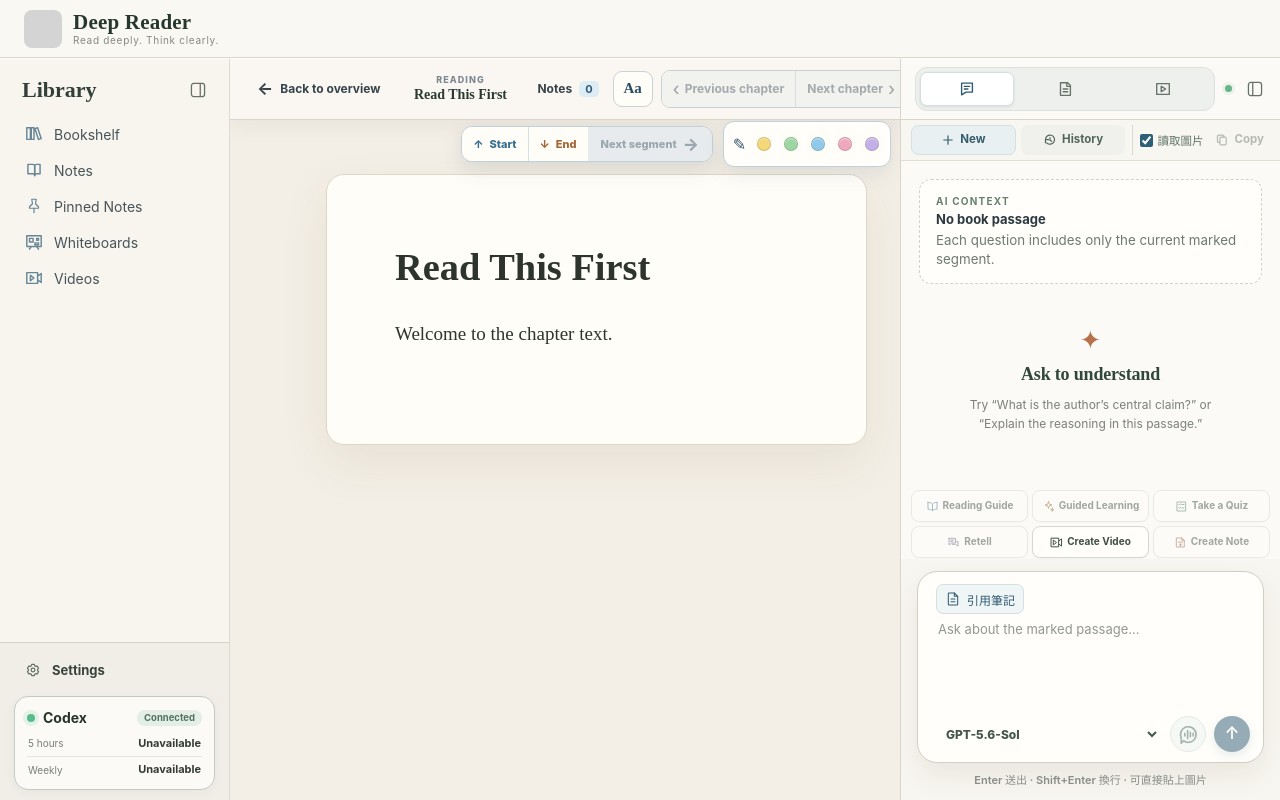
Test: saved video source keeps its snapshot without a chapter-jump button or changes to START/END
The width and height of the screenshot is (1280, 800).
Expected: the text "Welcome to the chapter text." is shown, [395,323,612,344]
Click the button "Videos": (114, 278) [10,260,219,296]
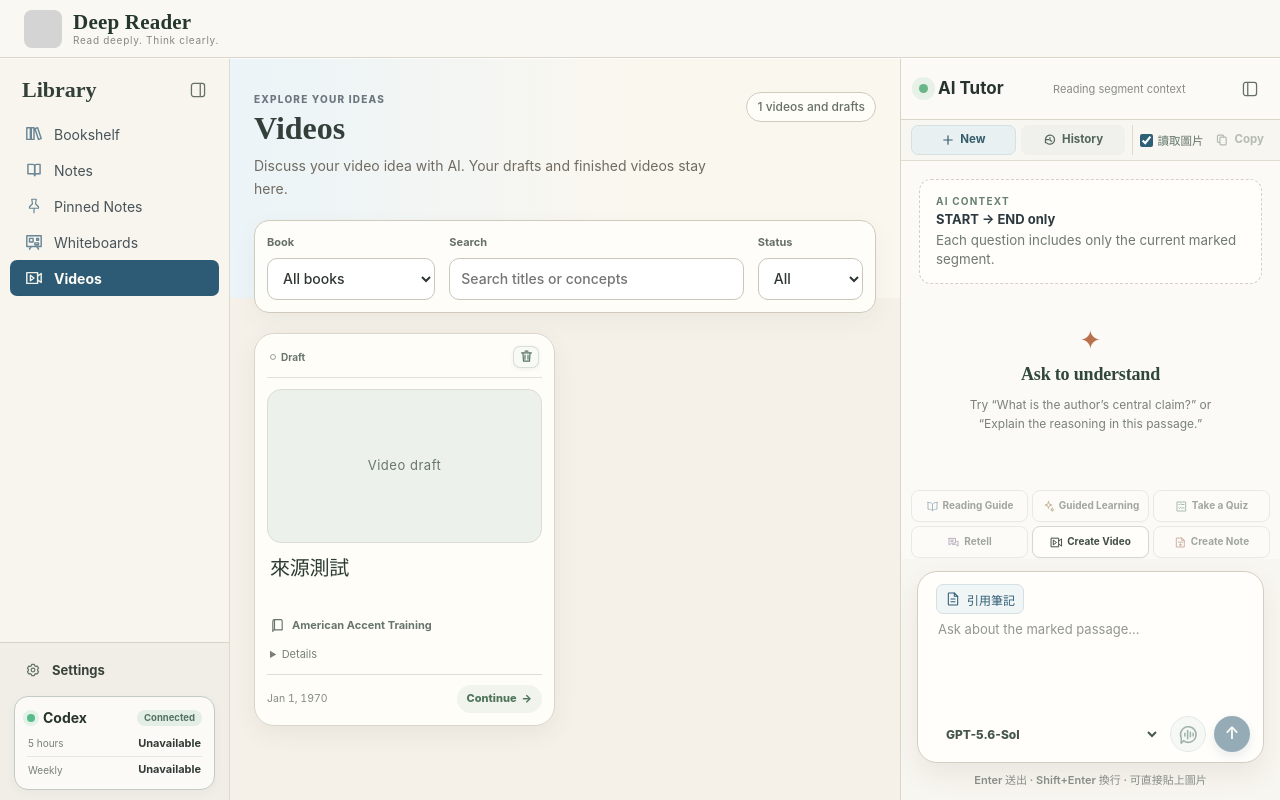
Click the button with aria-label "Continue: 來源測試": (499, 699) [457,685,542,713]
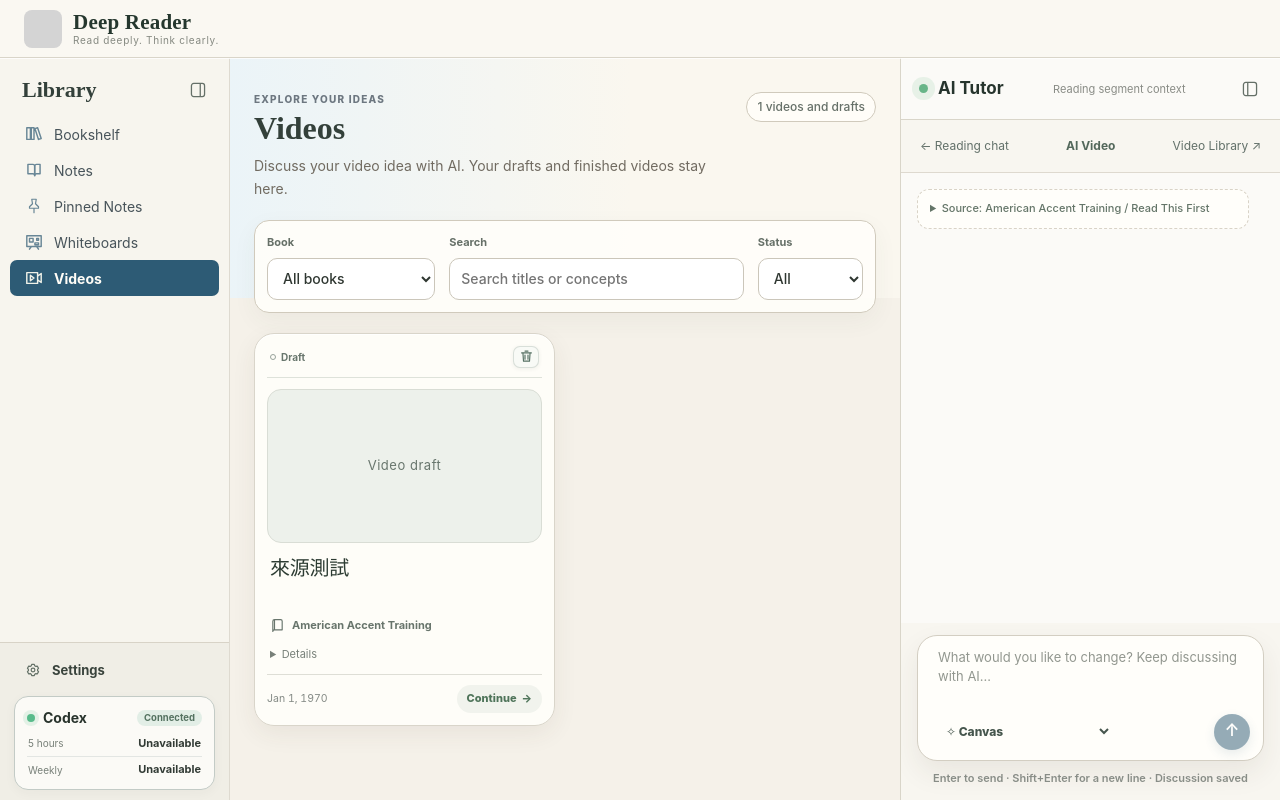
Click the heading "Source: American Accent Training / Read This First": (1083, 209) [930,200,1236,218]
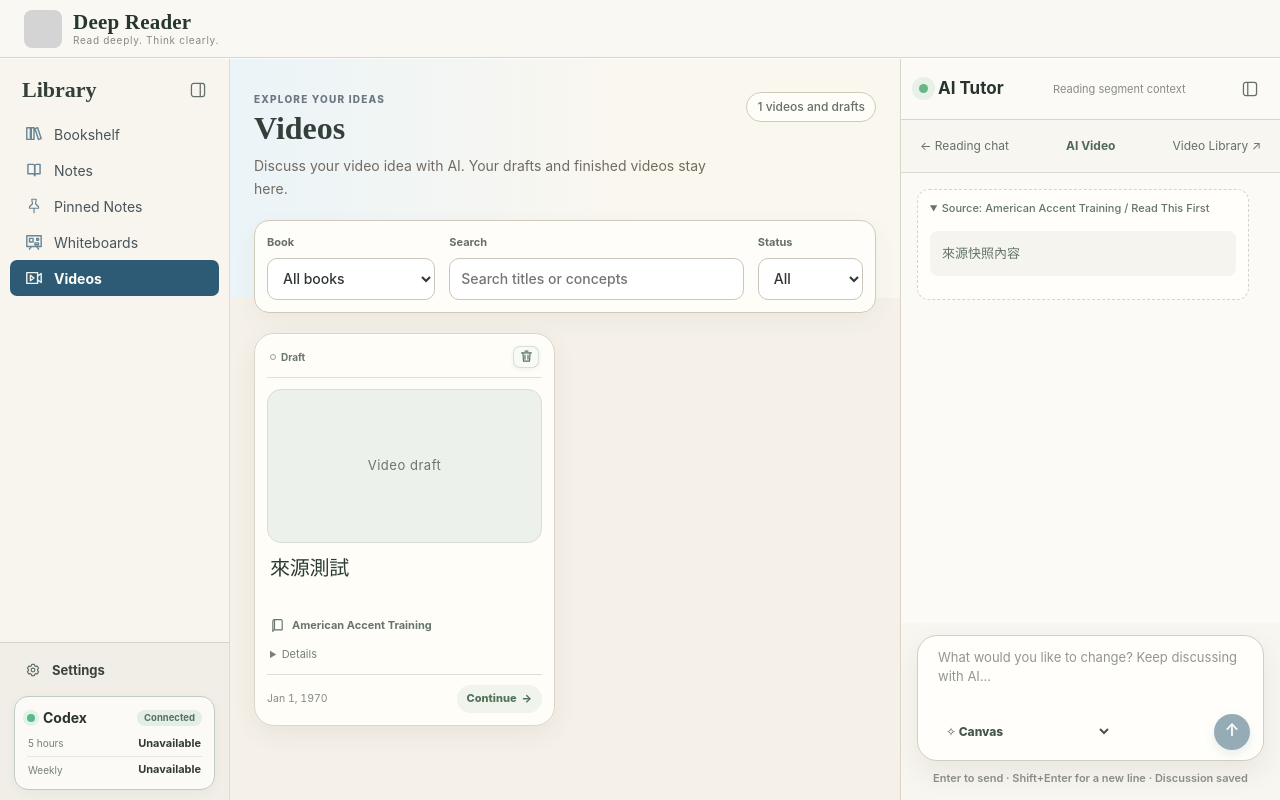
Click the button "Bookshelf": (114, 134) [10,116,219,152]
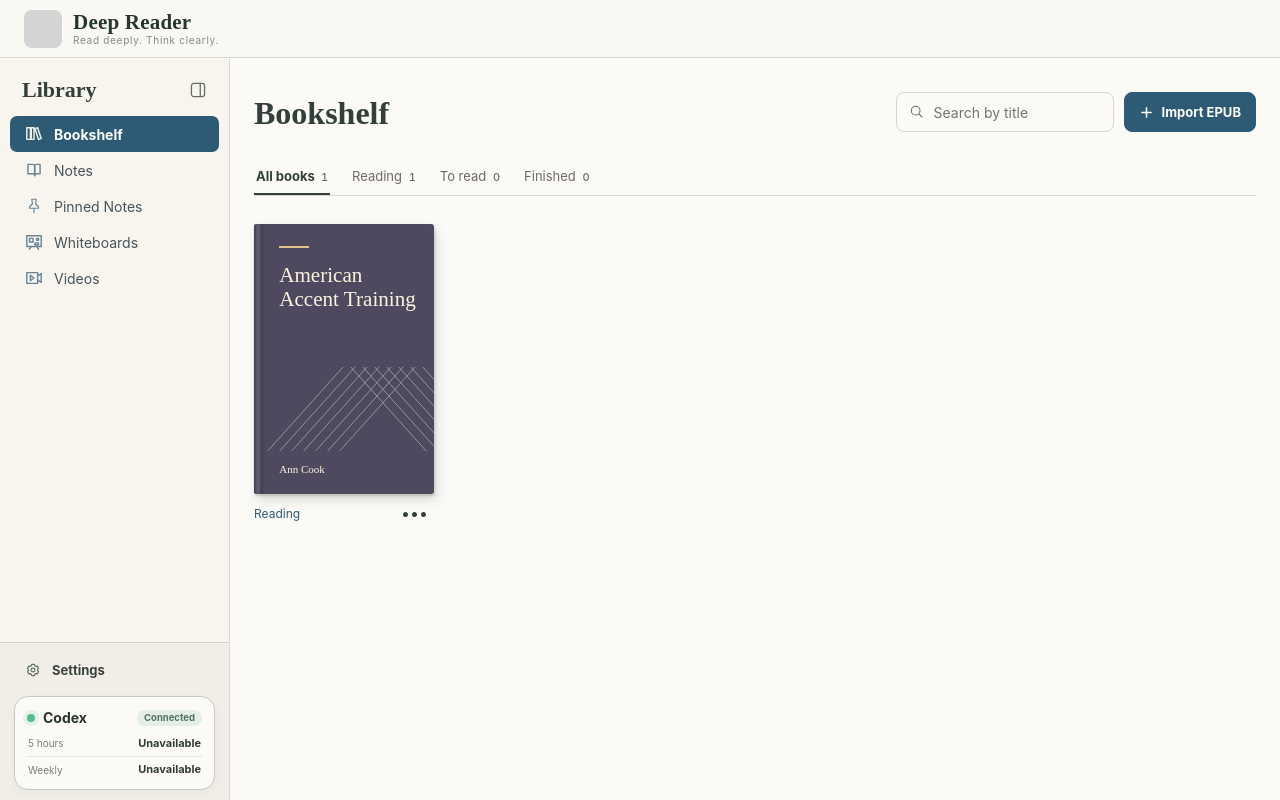
Click the button with aria-label "Continue reading American Accent Training": (344, 359) [254,224,434,494]
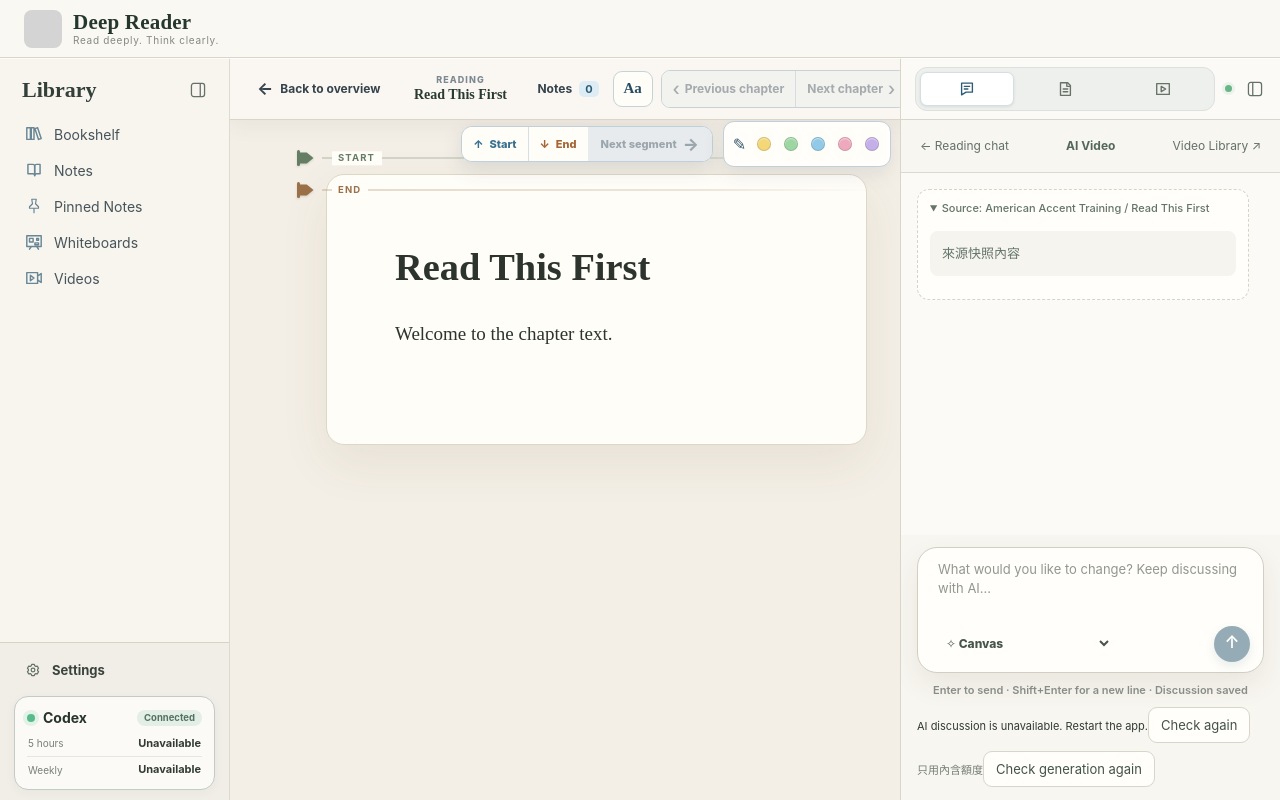
Expected: the text "Welcome to the chapter text." is shown, [395,323,612,344]
Expected: the text "來源快照內容" is shown, [930,231,1236,276]
